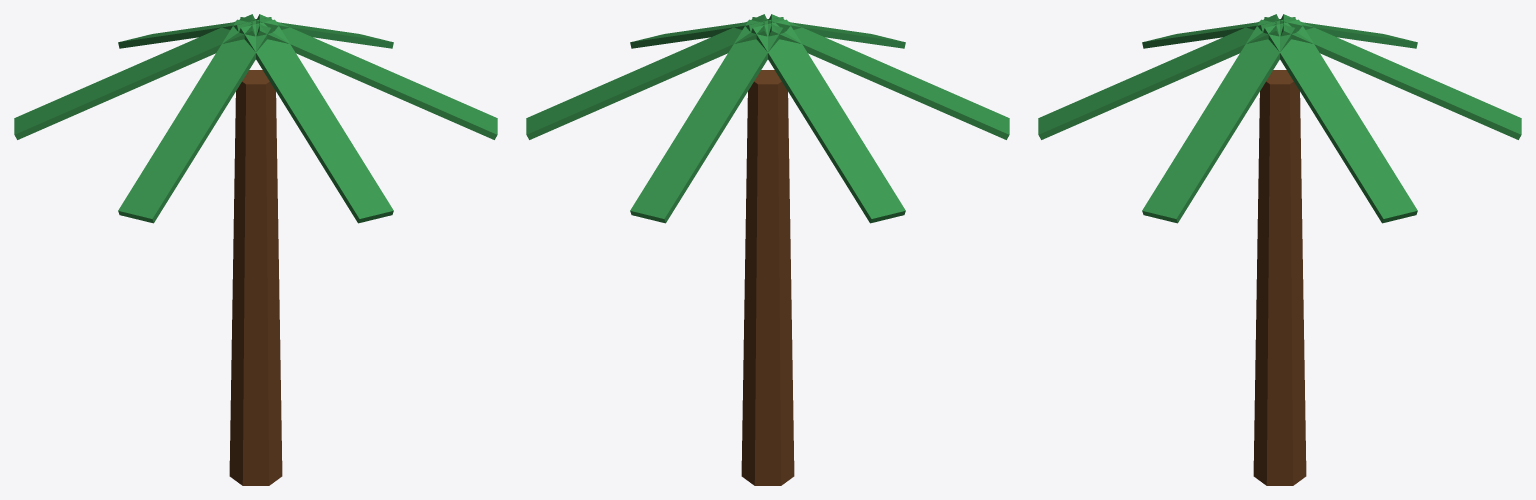
The model's file is small_palm.fbx.
The picture shows the model from 3 angles, left to right: view 1: azimuth 30°, elevation 25°; view 2: azimuth 150°, elevation 25°; view 3: azimuth 270°, elevation 25°; orthographic projection.
Visible parts, largest first — view 1: small_palm; view 2: small_palm; view 3: small_palm.
Boxes of the visible parts, bbox=[...] form: small_palm: bbox=[14, 14, 497, 485]; small_palm: bbox=[526, 14, 1009, 485]; small_palm: bbox=[1038, 14, 1521, 485].
Bounding box in the file's own units: 1.99 × 2.27 × 2.19.
